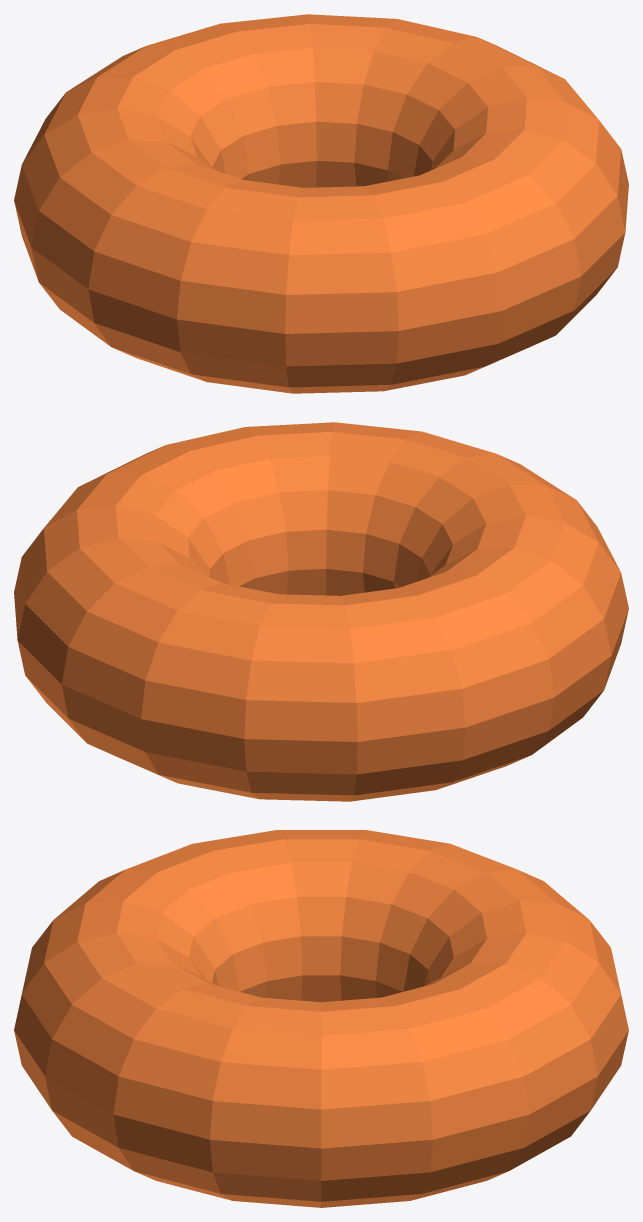
File: DonutChar.fbx
3 views of the same model, one above another, from view 1: azimuth 30°, elevation 25°; view 2: azimuth 150°, elevation 25°; view 3: azimuth 270°, elevation 25° (orthographic).
Visible parts, largest first — view 1: Torus; view 2: Torus; view 3: Torus.
Part boxes in pixels (x1,y1,x2,y2): Torus: (14,14,628,393); Torus: (14,422,628,801); Torus: (14,830,628,1207).
Size of the model in its own units: 297 by 100 by 299.
